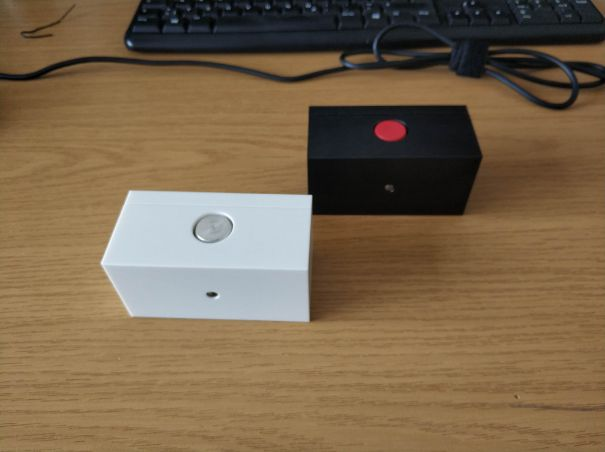black+black+red: (302, 101, 488, 220)
white+white+silver: (97, 186, 318, 326)
